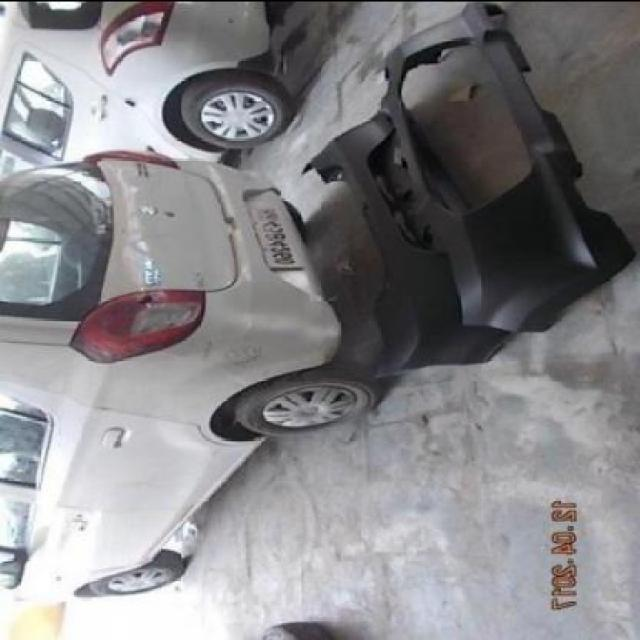damage: (218, 339, 262, 369), (135, 291, 157, 306)
